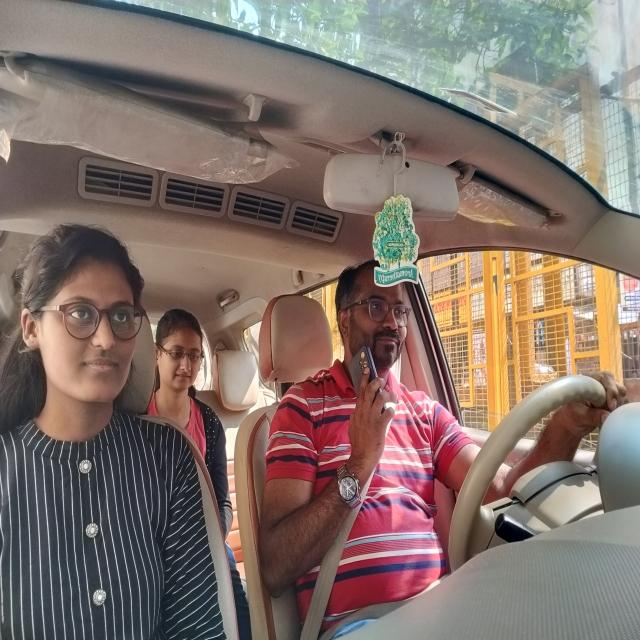mobile: (346, 347, 389, 426)
person: (18, 222, 146, 412), (331, 260, 411, 376), (153, 306, 205, 394)
